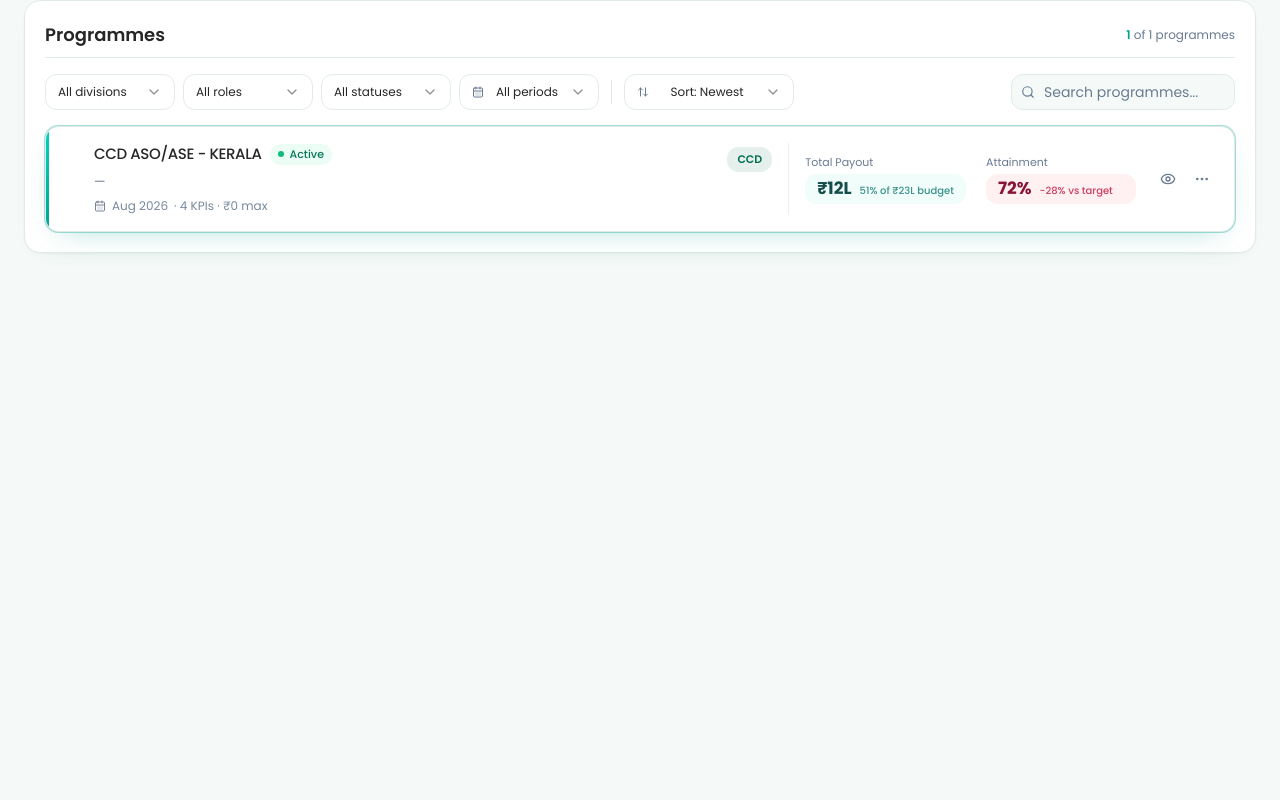
expanded programme panel — analytics wiring › renders one bar per reported KPI, with the engine's % and status tag
Click the button named "view details".
click(1168, 179)  # box [1152,163,1184,195]
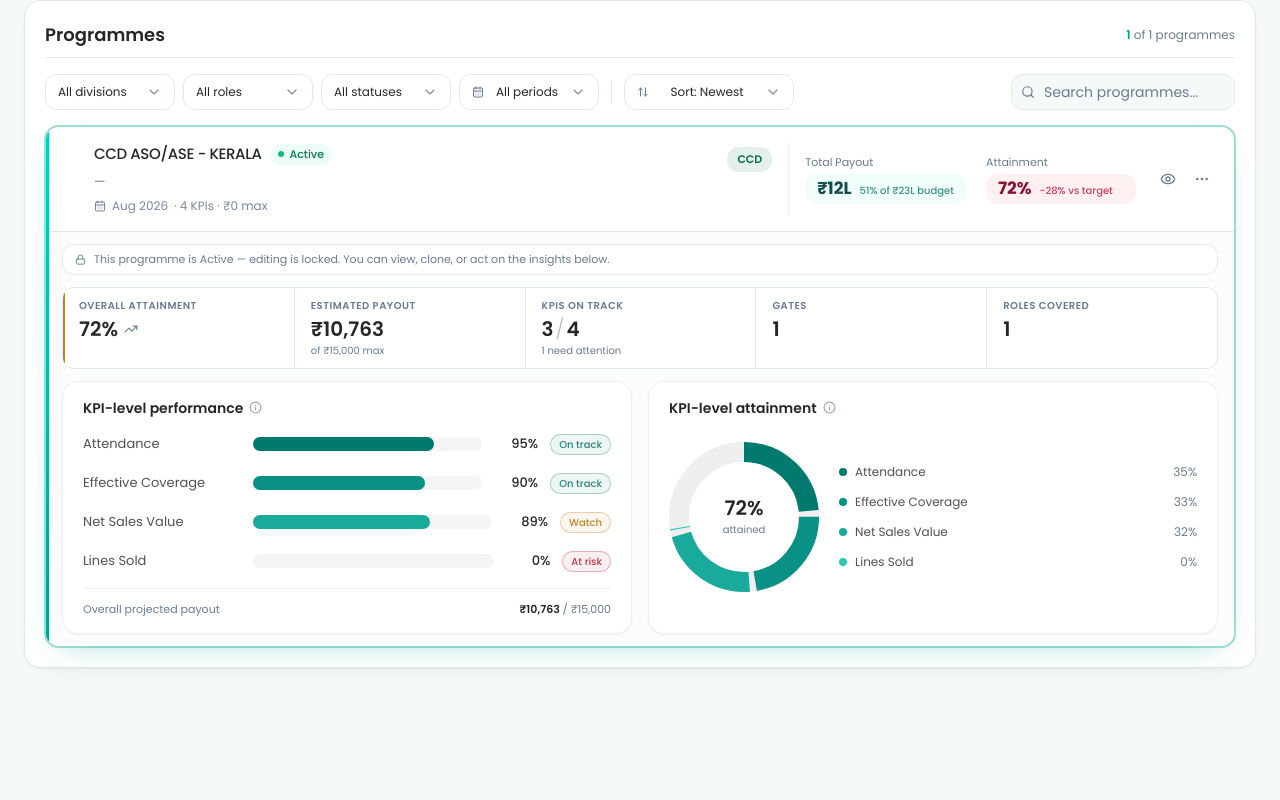
Expected: the text "Net Sales Value" in the row of "89" is shown, [83,512,184,531]
Expected: the text "Attendance" in the row of "95" is shown, [83,434,160,453]
Expected: the text "Effective Coverage" in the row of "90" is shown, [83,473,205,492]
